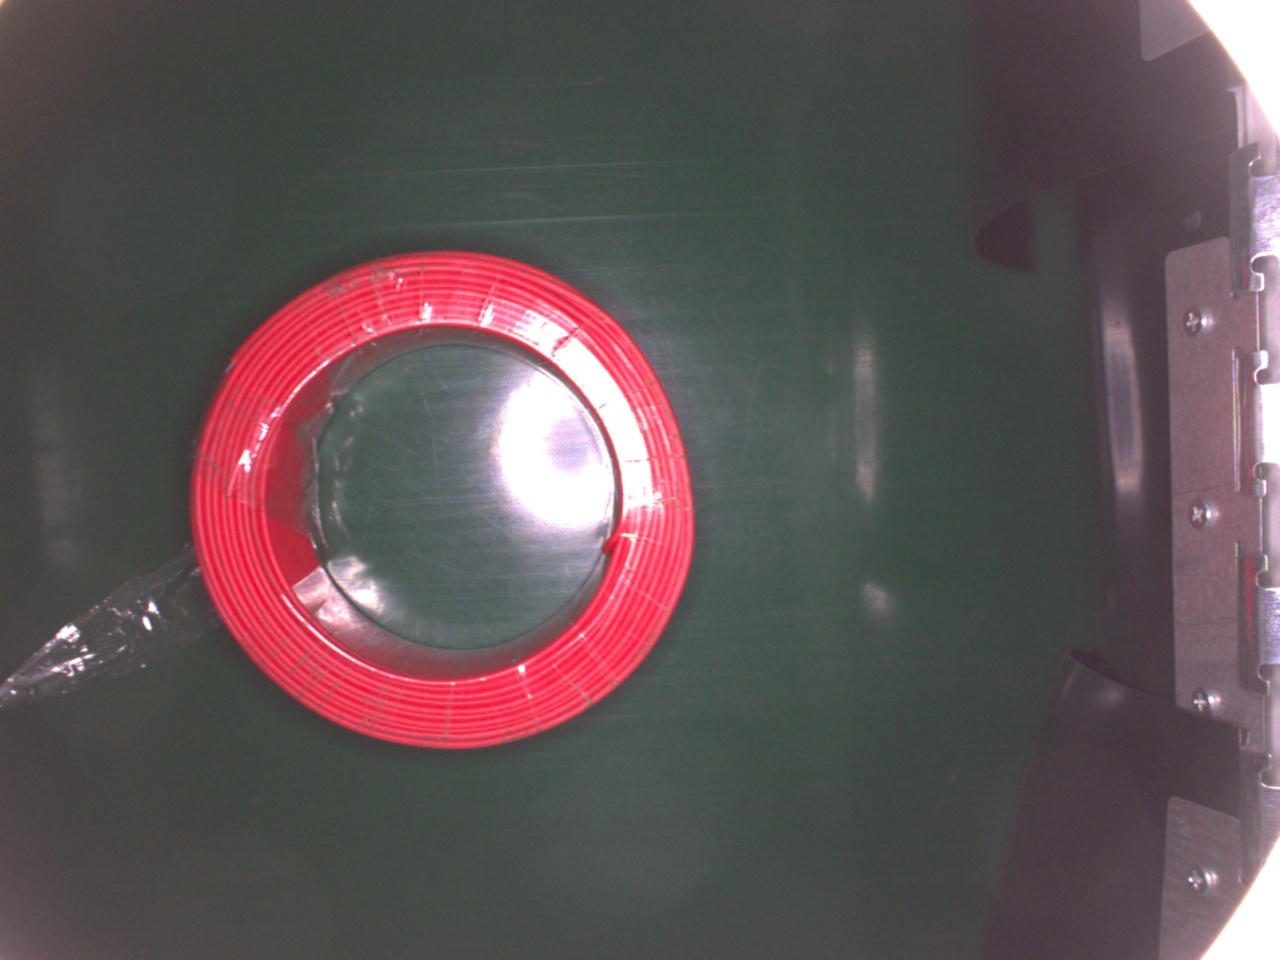red: (187, 244, 687, 757)
